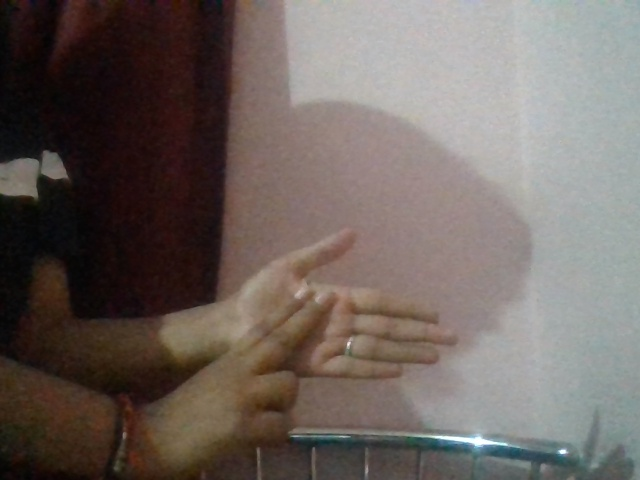N: (109, 226, 498, 477)
